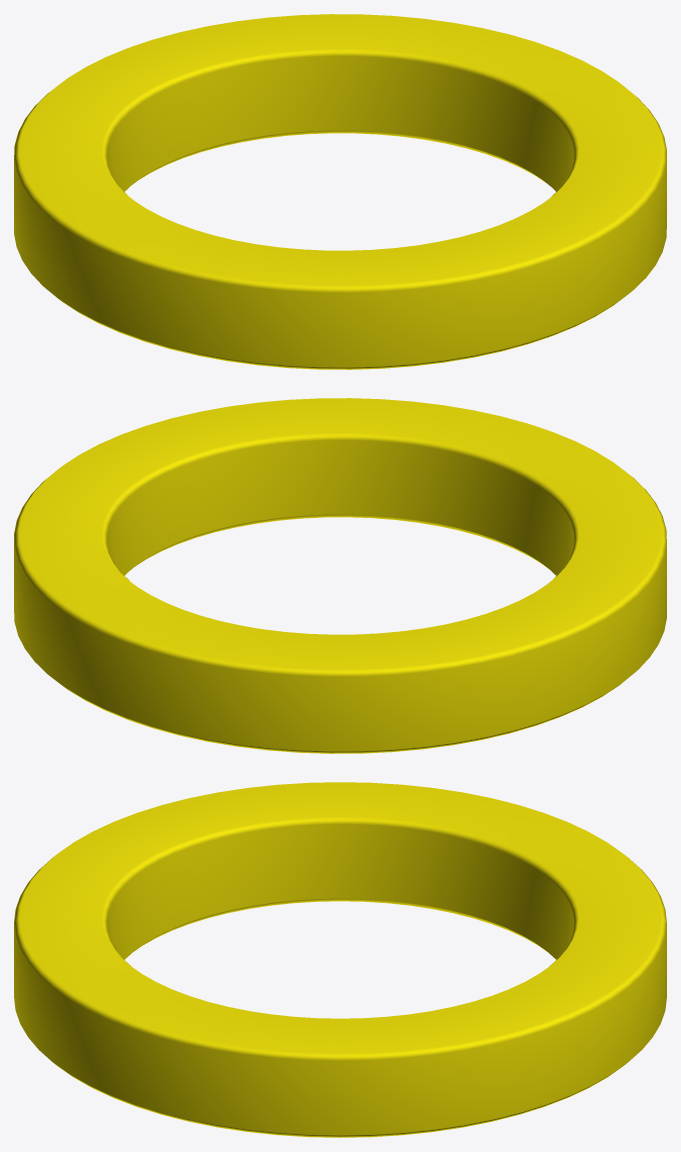
The picture shows the model from 3 angles, top to bottom: view 1: azimuth 30°, elevation 25°; view 2: azimuth 150°, elevation 25°; view 3: azimuth 270°, elevation 25°; orthographic projection.
Visible parts, largest first — view 1: seal_body; view 2: seal_body; view 3: seal_body.
Boxes of the visible parts, box(x1,y1,x2,y2) form: seal_body: box(14, 14, 666, 369); seal_body: box(14, 398, 666, 753); seal_body: box(14, 782, 666, 1137).
Bounding box in the file's own units: 0.0222 × 0.00317 × 0.0222.
